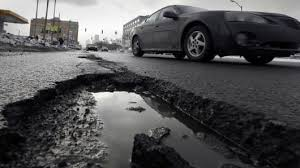pothole: (1, 71, 189, 168), (191, 92, 300, 167)
